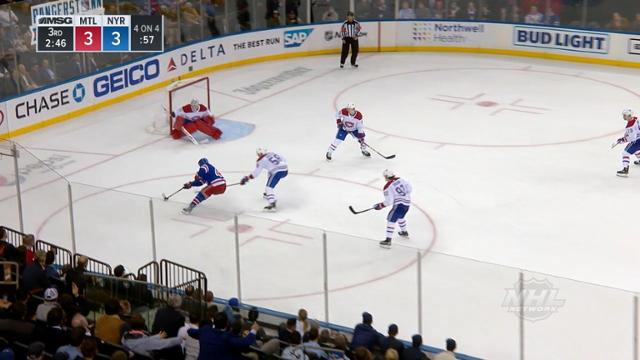geico: (92, 59, 164, 103)
